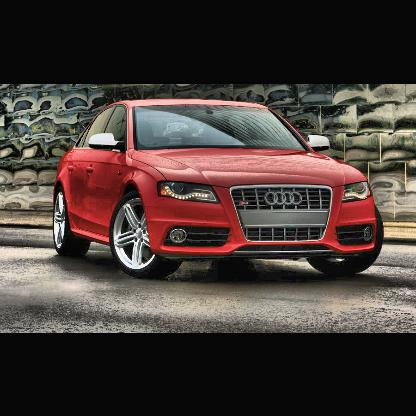Audi S4 Sedan 2012: (51, 98, 385, 278)
